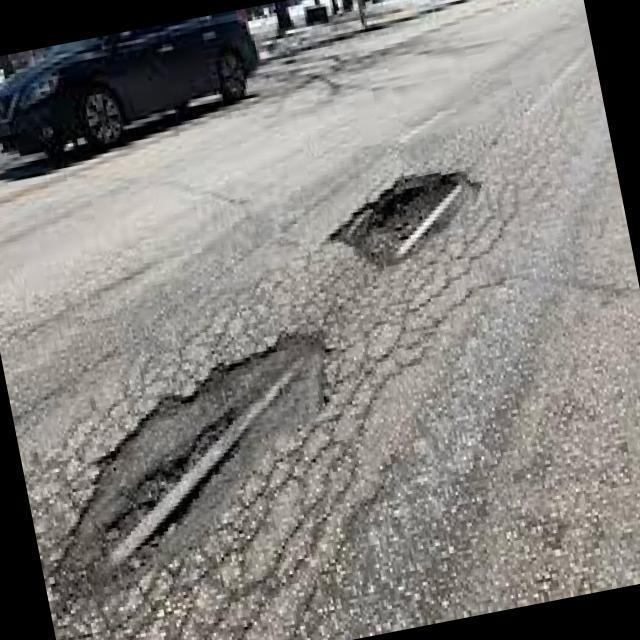Pothole: (66, 335, 329, 589), (326, 172, 479, 268)
